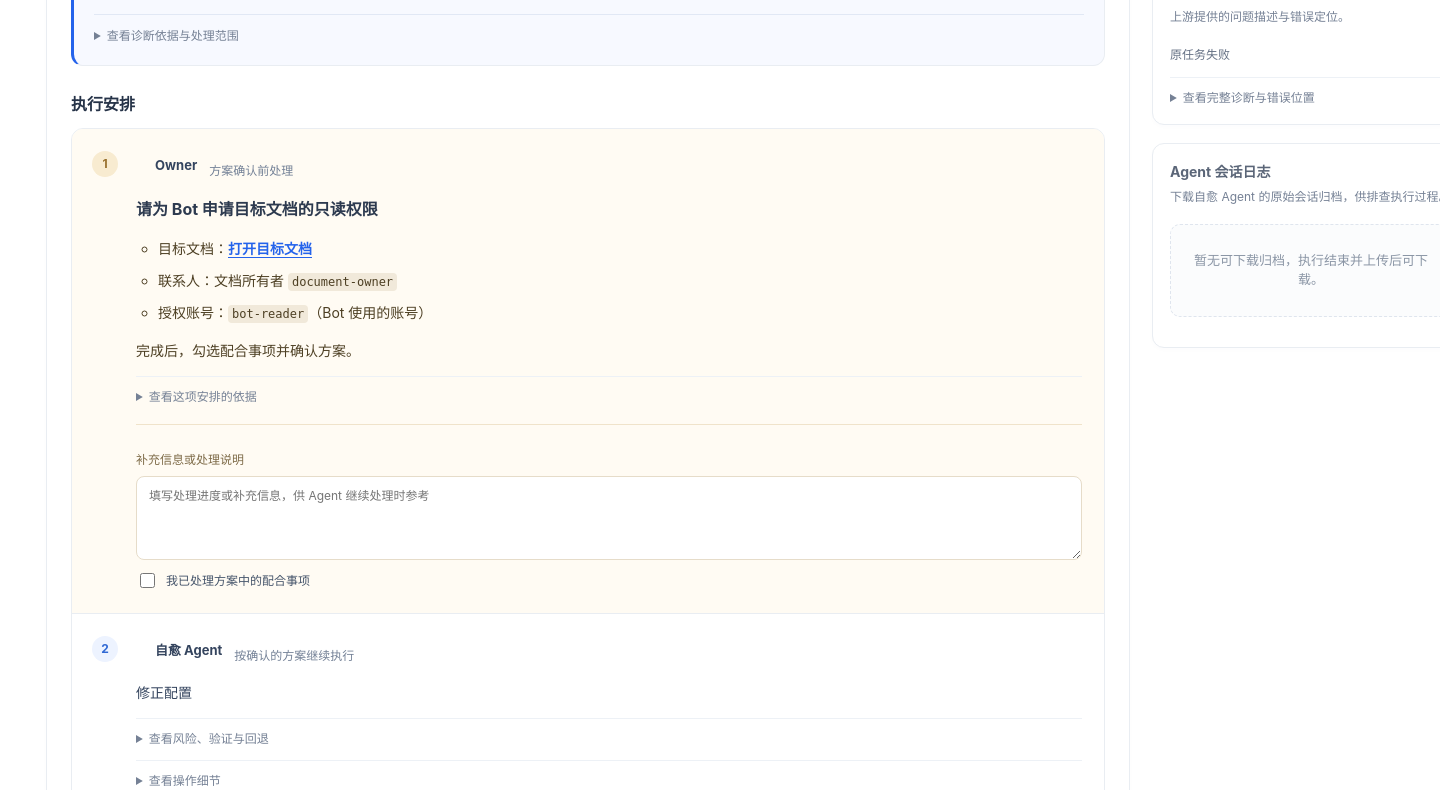
it: renders an actionable Owner request with a document link and collapses the technical basis
(page scrolled)
Expected: the text "请为 Bot 申请目标文档的只读权限" is shown, [136,199,378,219]
Expected: the text "bot-reader" is shown, [228,305,308,323]
Click the heading "查看这项安排的依据" at (203, 396), box [149,389,257,404]
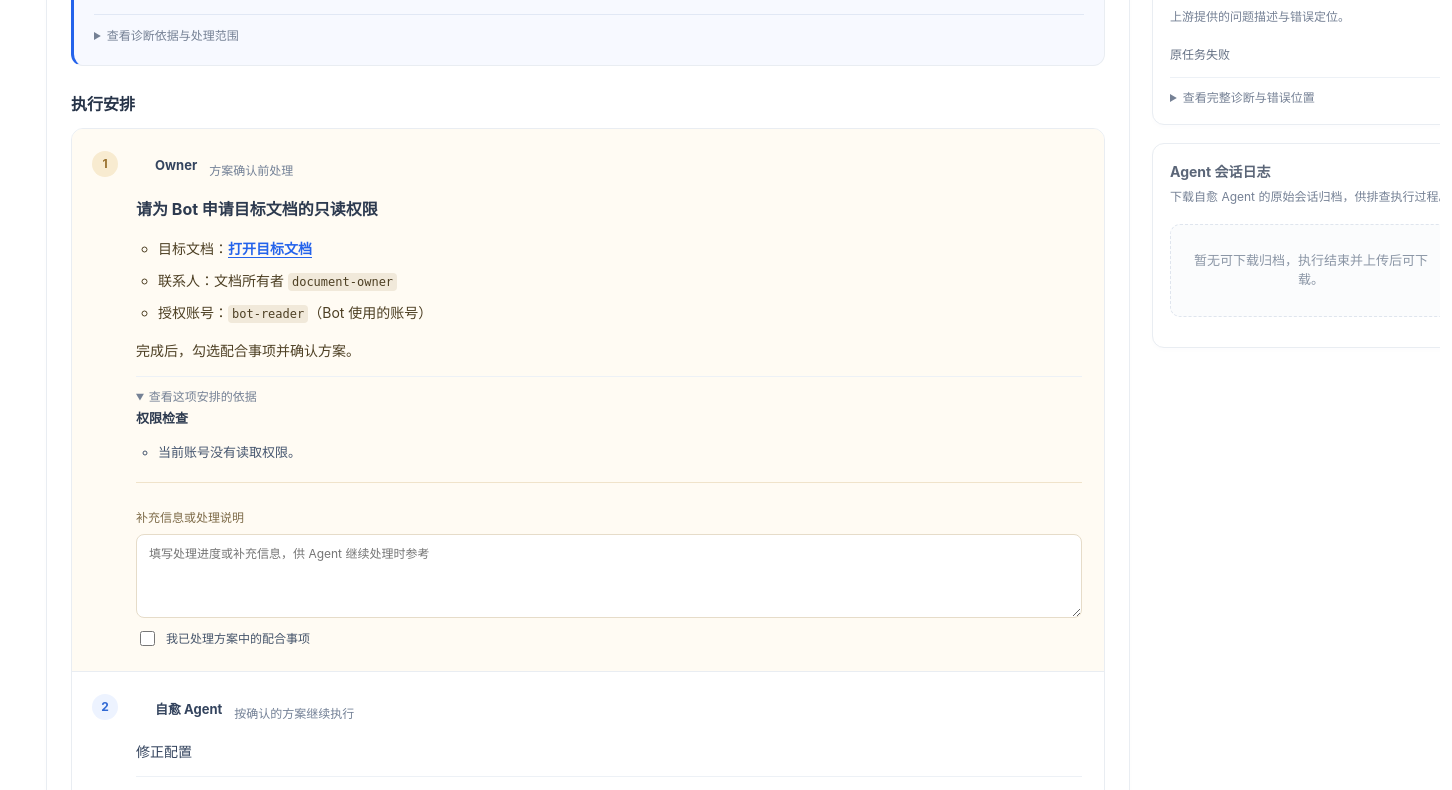
Expected: the list item "当前账号没有读取权限。" is shown, [158,444,301,460]
Click the checkbox labelled "我已处理方案中的配合事项" at (148, 639), box [140,631,155,646]
(page scrolled)
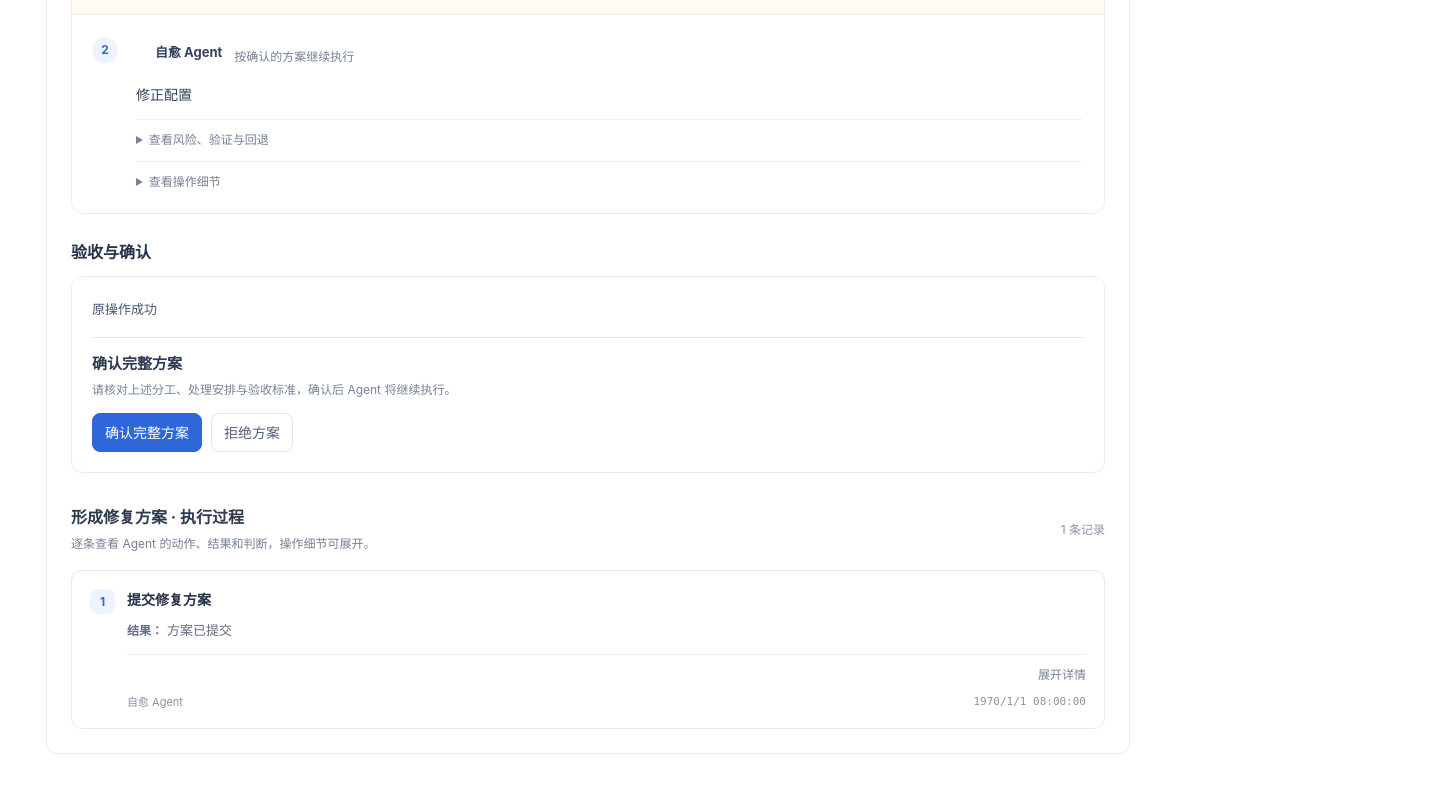
Expected: the button "确认完整方案" is enabled, [92,413,202,452]
